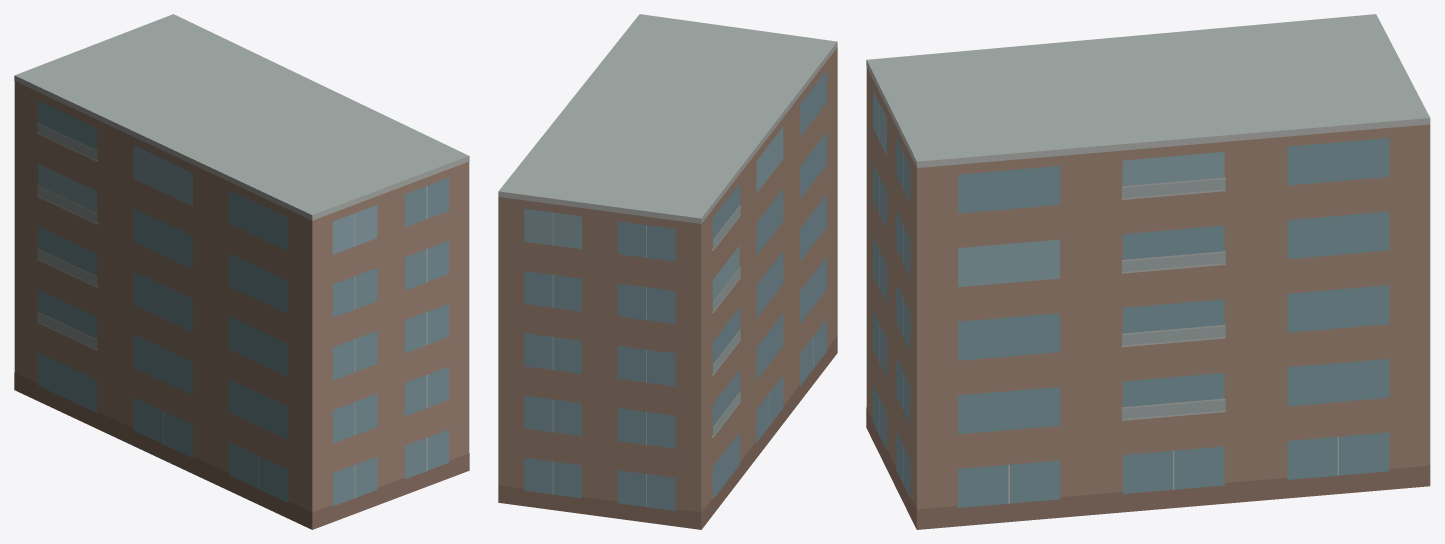
The model's file is survey-upis-32707537.glb.
The picture shows the model from 3 angles, left to right: view 1: azimuth 30°, elevation 25°; view 2: azimuth 150°, elevation 25°; view 3: azimuth 270°, elevation 25°; orthographic projection. The views are drawn at different scales.
Parts seen in each view (by area): view 1: survey-upis-32707537.tmp; view 2: survey-upis-32707537.tmp; view 3: survey-upis-32707537.tmp.
Boxes of the visible parts, box(x1,y1,x2,y2) form: survey-upis-32707537.tmp: box(14, 14, 469, 529); survey-upis-32707537.tmp: box(498, 14, 837, 529); survey-upis-32707537.tmp: box(866, 14, 1430, 529).
Size of the model in its own units: 12.14 by 14.1 by 19.58.
